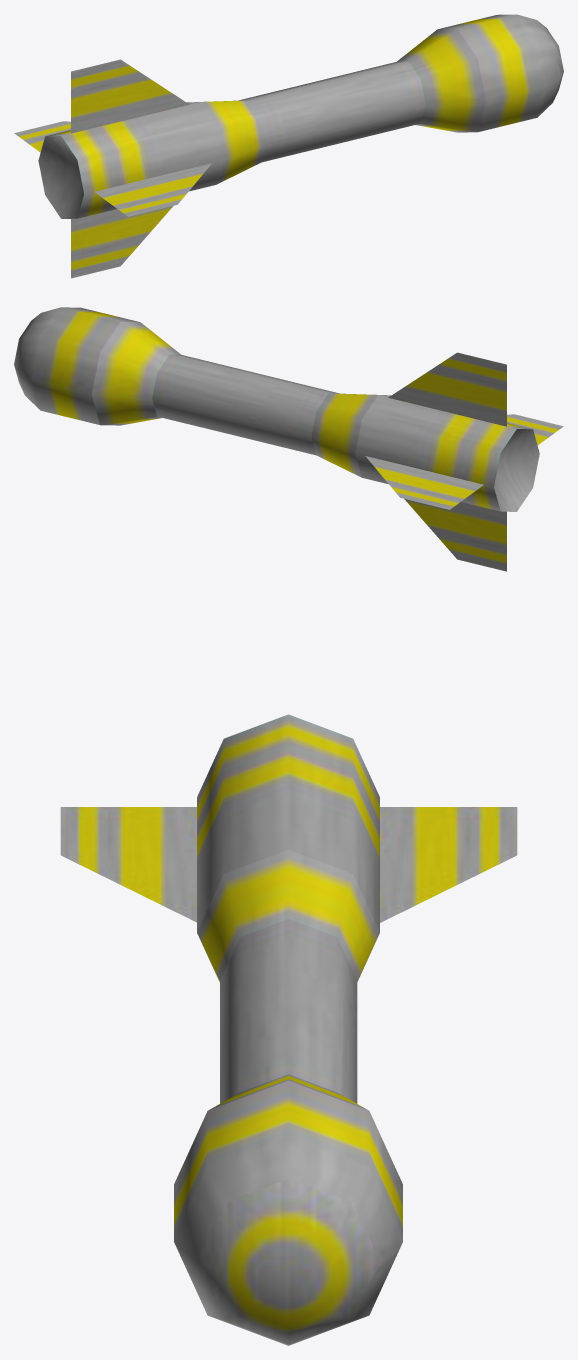
Rendered from forma.obj.
3 views of the same model, one above another, from view 1: azimuth 30°, elevation 25°; view 2: azimuth 150°, elevation 25°; view 3: azimuth 270°, elevation 25° (orthographic). The views are drawn at different scales.
Visible parts, largest first — view 1: object; view 2: object; view 3: object.
Part boxes in pixels (left/top/right/bottom): object: left=14, top=14, right=563, bottom=278; object: left=14, top=307, right=563, bottom=571; object: left=60, top=714, right=517, bottom=1345.
Size of the model in its own units: 50 by 19.96 by 19.96.
1 material, 1 textured.
